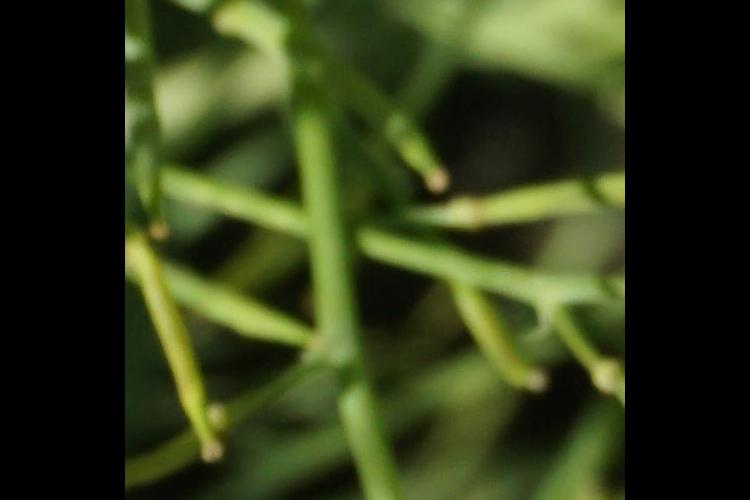pod: (290, 41, 476, 197), (437, 244, 562, 438), (146, 259, 244, 487)
